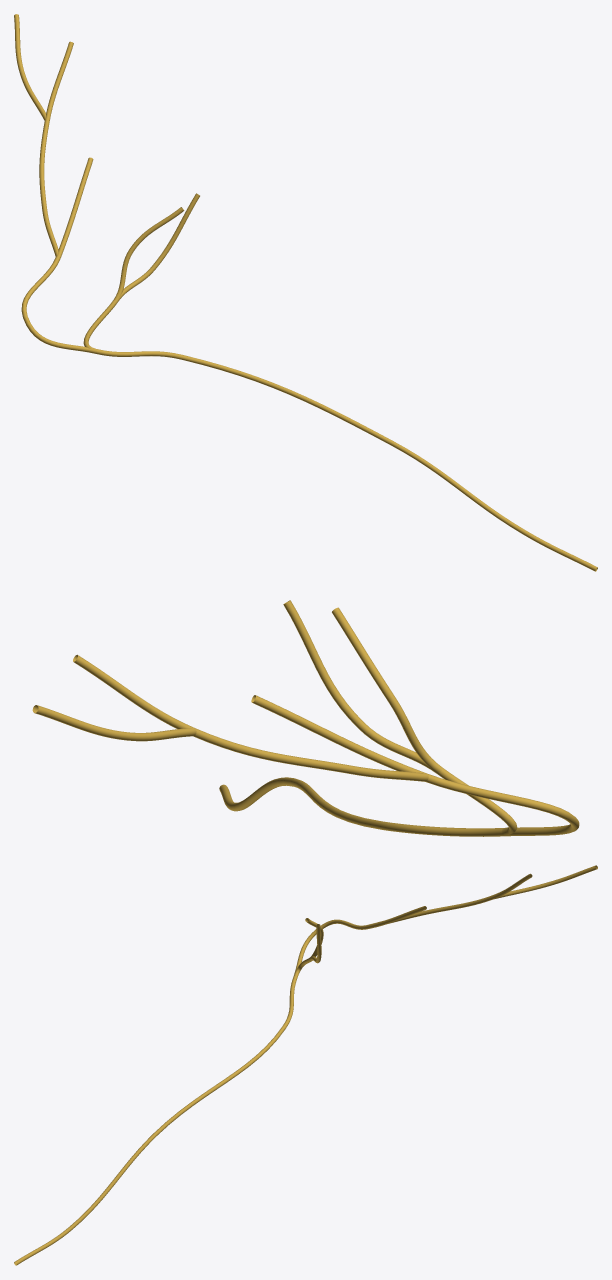
The picture shows the model from 3 angles, top to bottom: view 1: azimuth 30°, elevation 25°; view 2: azimuth 150°, elevation 25°; view 3: azimuth 270°, elevation 25°; orthographic projection. The views are drawn at different scales.
Parts seen in each view (by area): view 1: 右侧肩胛上神经; view 2: 右侧肩胛上神经; view 3: 右侧肩胛上神经.
Boxes of the visible parts, x1,y1,x2,y2 form: 右侧肩胛上神经: [14, 14, 597, 571]; 右侧肩胛上神经: [32, 600, 579, 836]; 右侧肩胛上神经: [14, 865, 597, 1265].
Size of the model in its own units: 0.1318 by 0.1163 by 0.2024.
